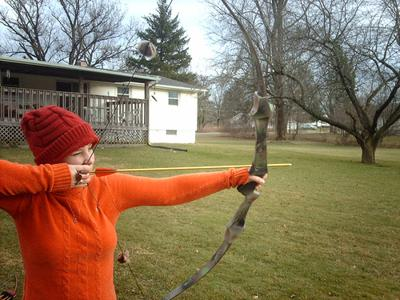person: (1, 102, 272, 299)
